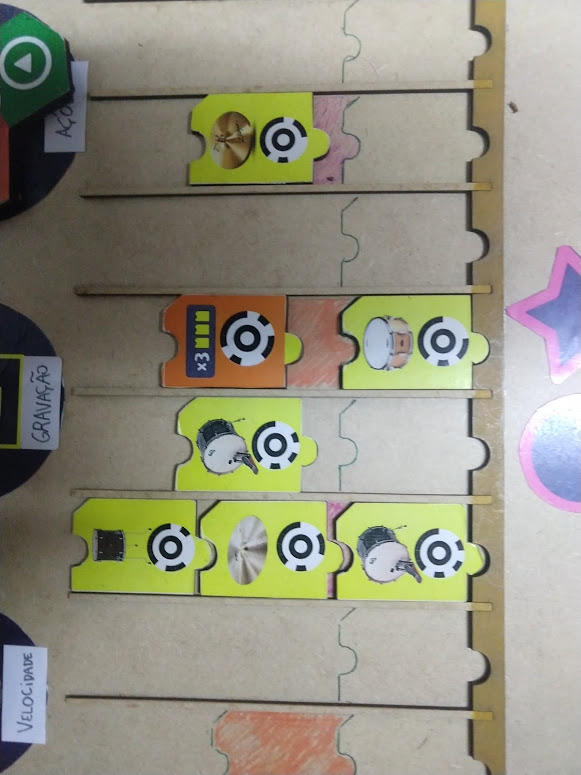bumbo: (331, 497, 486, 603), (175, 394, 321, 495)
